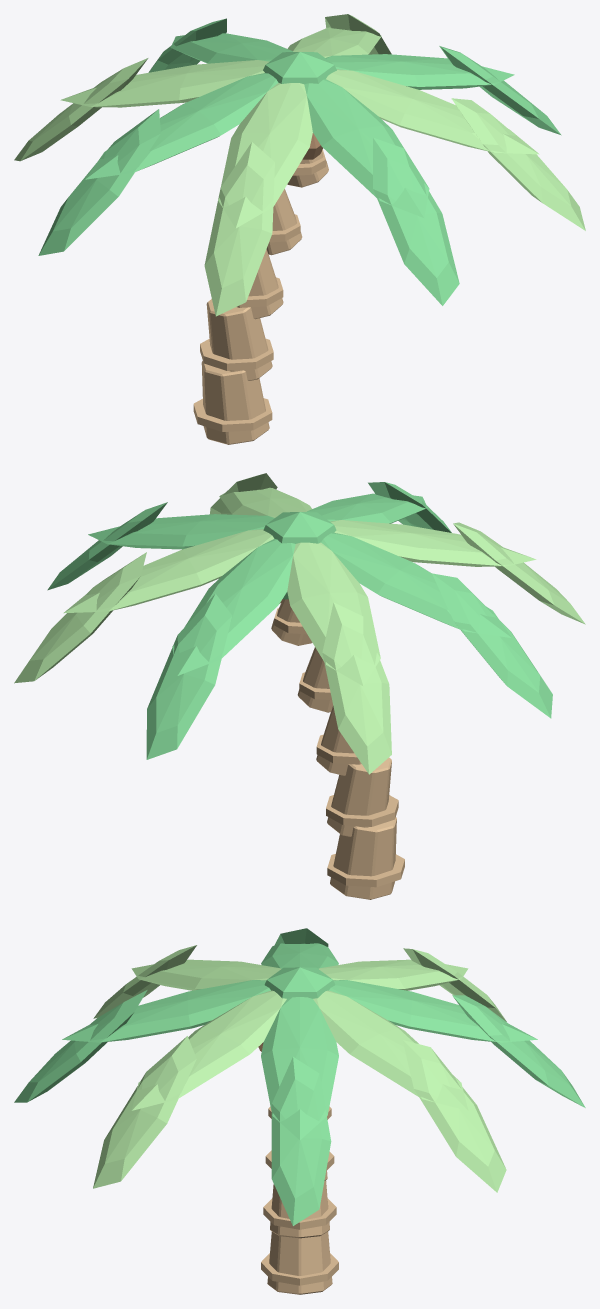
The model's file is CF_TreePalm.fbx.
The picture shows the model from 3 angles, top to bottom: view 1: azimuth 30°, elevation 25°; view 2: azimuth 150°, elevation 25°; view 3: azimuth 270°, elevation 25°; orthographic projection. The views are drawn at different scales.
Parts seen in each view (by area): view 1: CF_TreePalm_Leaf, CF_TreePalm_LeafLight, CF_TreePalm_Bark; view 2: CF_TreePalm_Leaf, CF_TreePalm_LeafLight, CF_TreePalm_Bark; view 3: CF_TreePalm_Leaf, CF_TreePalm_LeafLight, CF_TreePalm_Bark.
Boxes of the visible parts, bbox=[...] form: CF_TreePalm_Leaf: bbox=[38, 18, 561, 305]; CF_TreePalm_LeafLight: bbox=[14, 14, 585, 316]; CF_TreePalm_Bark: bbox=[193, 149, 328, 444]; CF_TreePalm_Leaf: bbox=[47, 482, 552, 759]; CF_TreePalm_LeafLight: bbox=[14, 473, 585, 774]; CF_TreePalm_Bark: bbox=[271, 599, 404, 899]; CF_TreePalm_Leaf: bbox=[14, 928, 585, 1225]; CF_TreePalm_LeafLight: bbox=[93, 945, 506, 1192]; CF_TreePalm_Bark: bbox=[261, 1106, 338, 1294].
Bounding box in the file's own units: 14.62 × 9.89 × 14.62.
